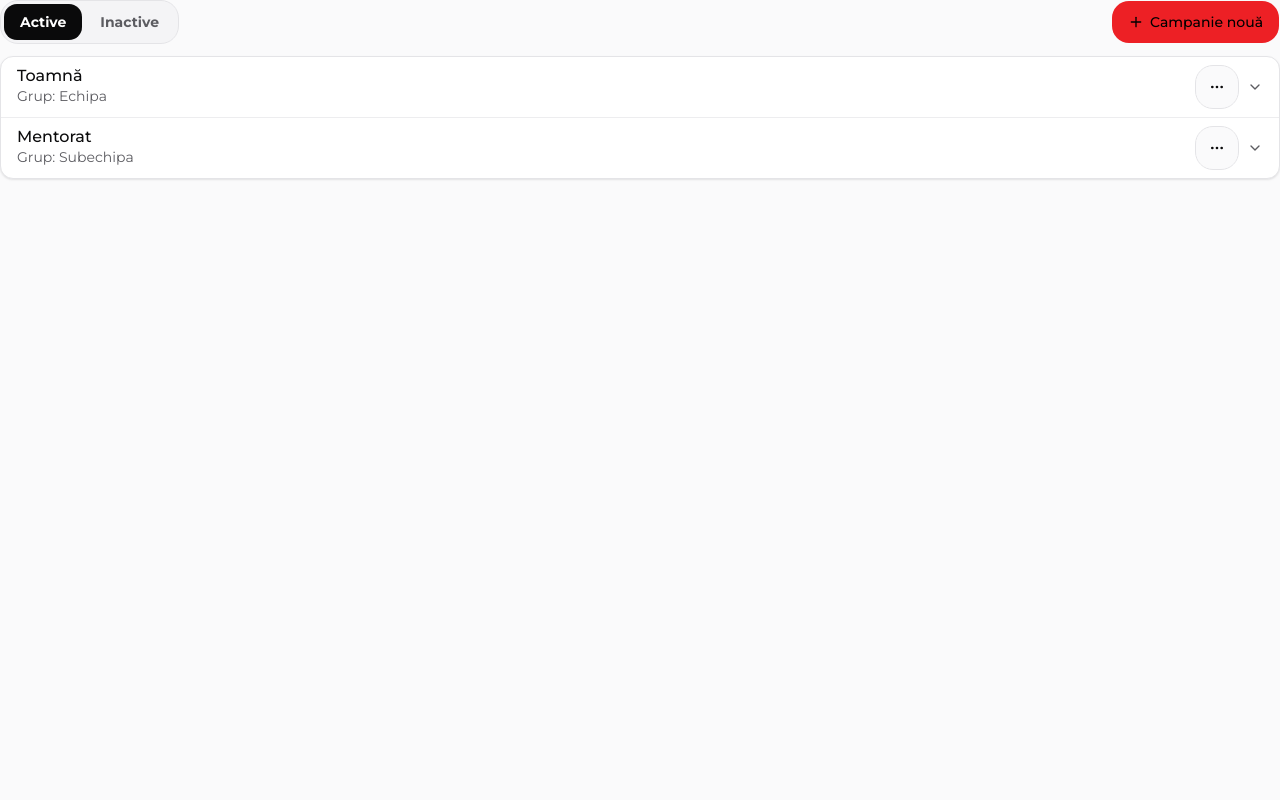
Test case: CampaignsPanel › creates in the chosen Group and changes a row below it, showing the server refusal
The width and height of the screenshot is (1280, 800).
Click the button "Campanie nouă".
click(1196, 22)  # box [1111,0,1279,44]
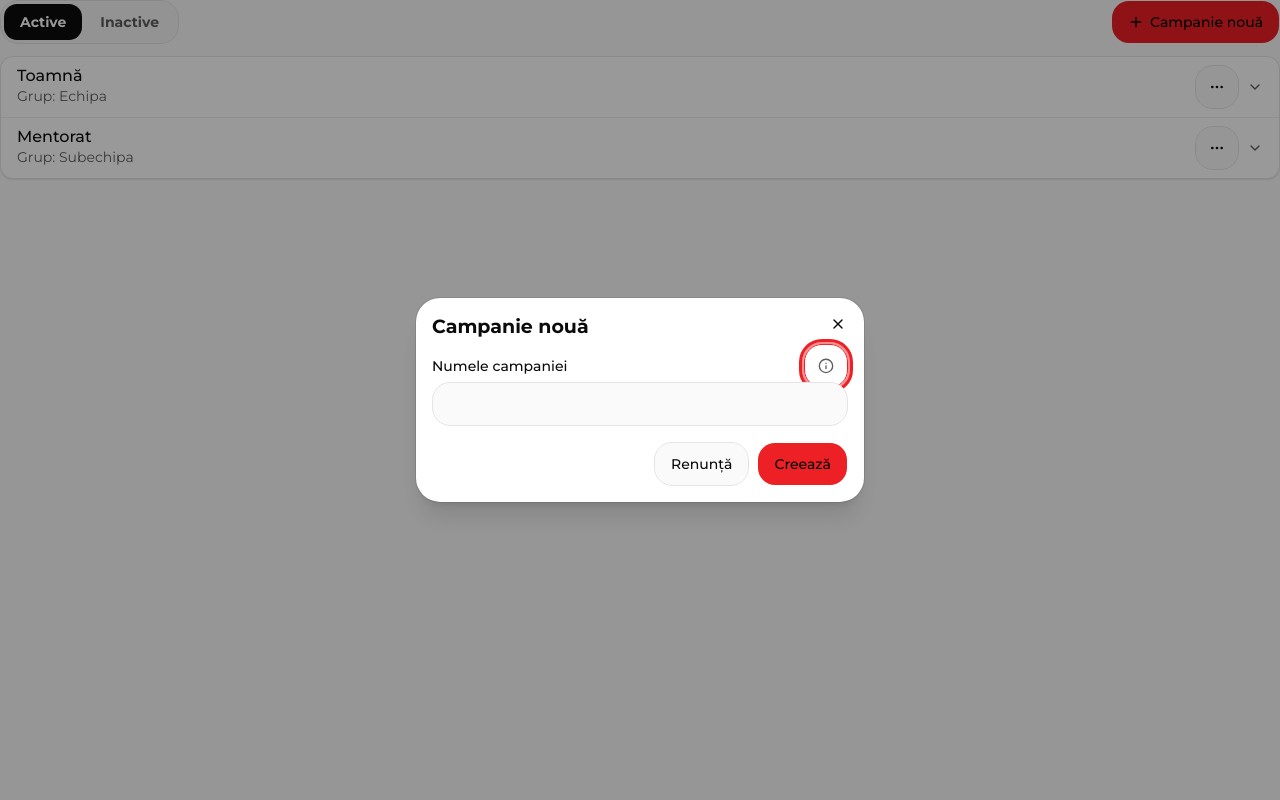
expect the button named "Despre campanie" is shown: met, box [804,344,848,388]
Type "Iarnă" into the field labelled "Numele campaniei".
click(640, 404); type("Iarnă")  # box [432,382,848,426]
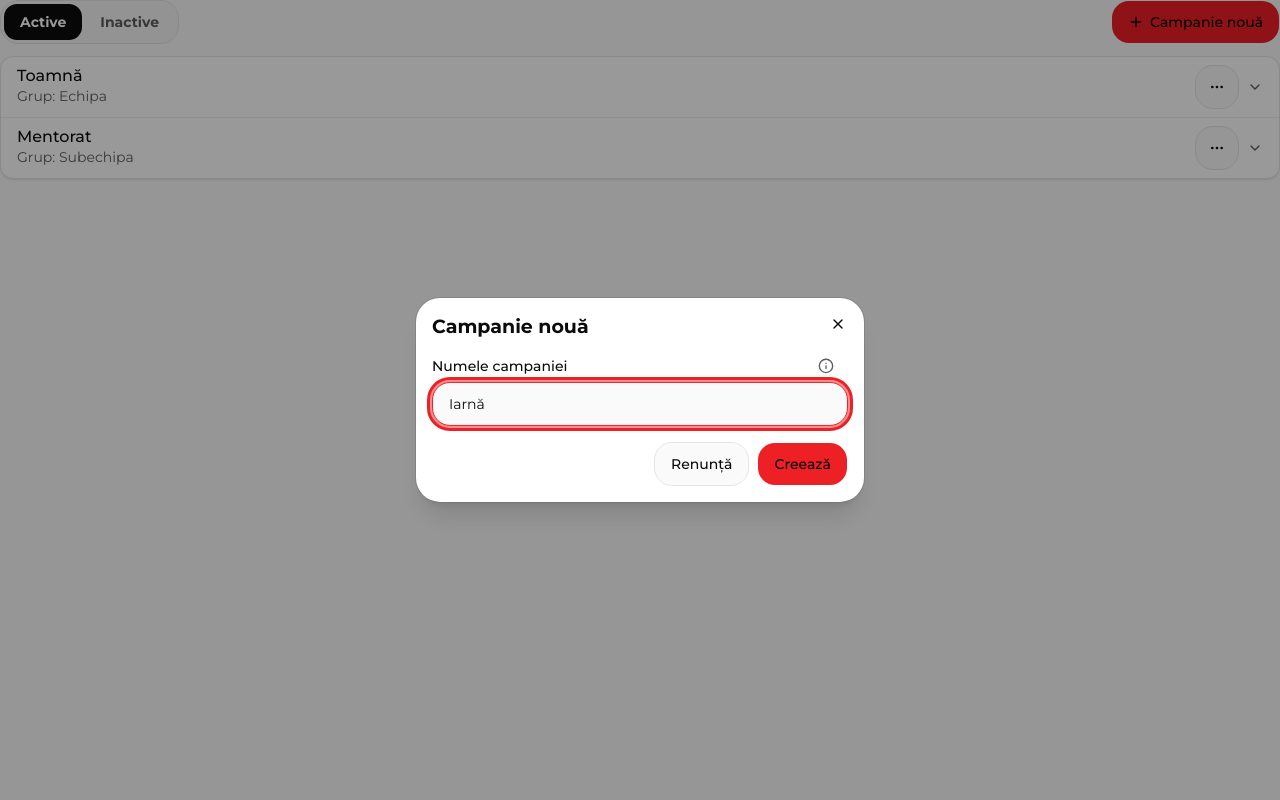
Click the button "Creează".
click(803, 464)  # box [758,442,848,486]
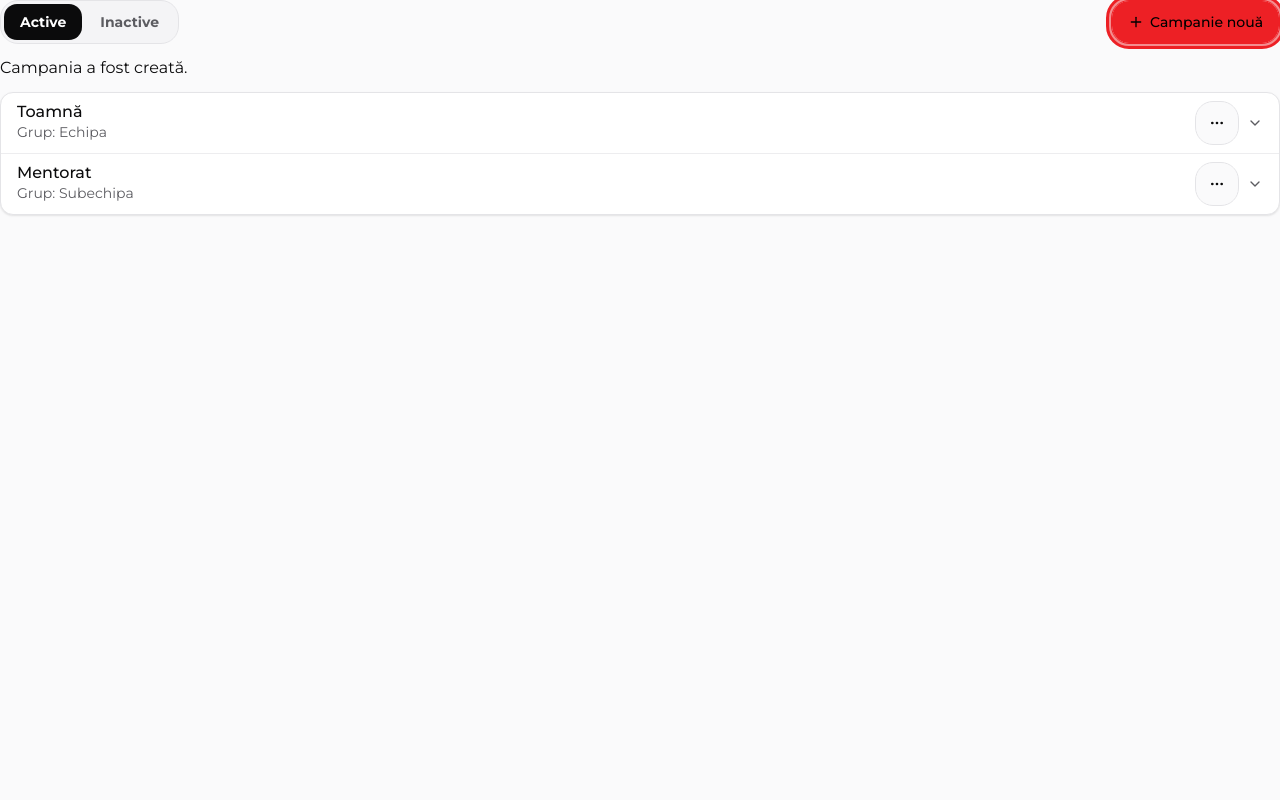
expect the dialog is gone: met
Click the button named "Acțiuni pentru Mentorat".
click(1217, 184)  # box [1195,162,1239,206]
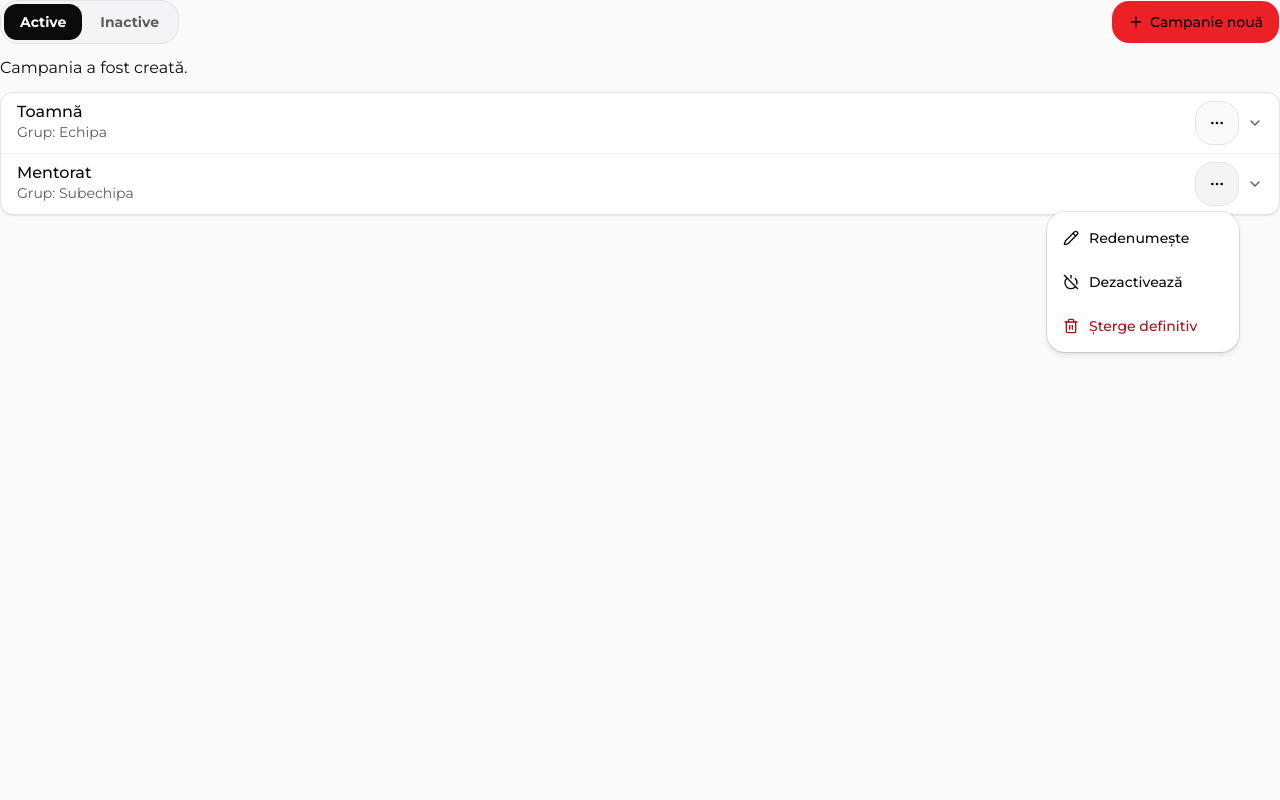
Click the menu item "Dezactivează".
click(1123, 282)  # box [1063,273,1182,291]
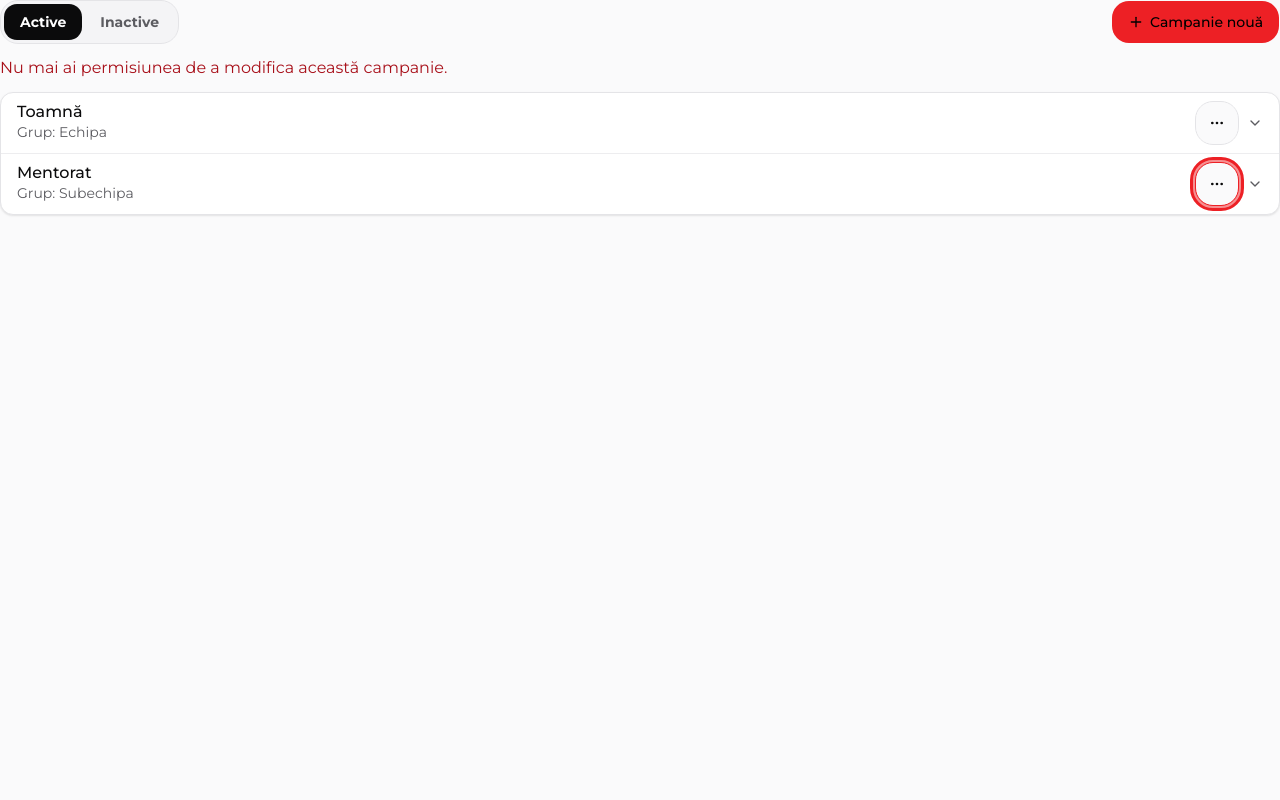
expect the message reads "Nu mai ai permisiunea de a modifica această campanie.": met, box [0,58,447,77]
